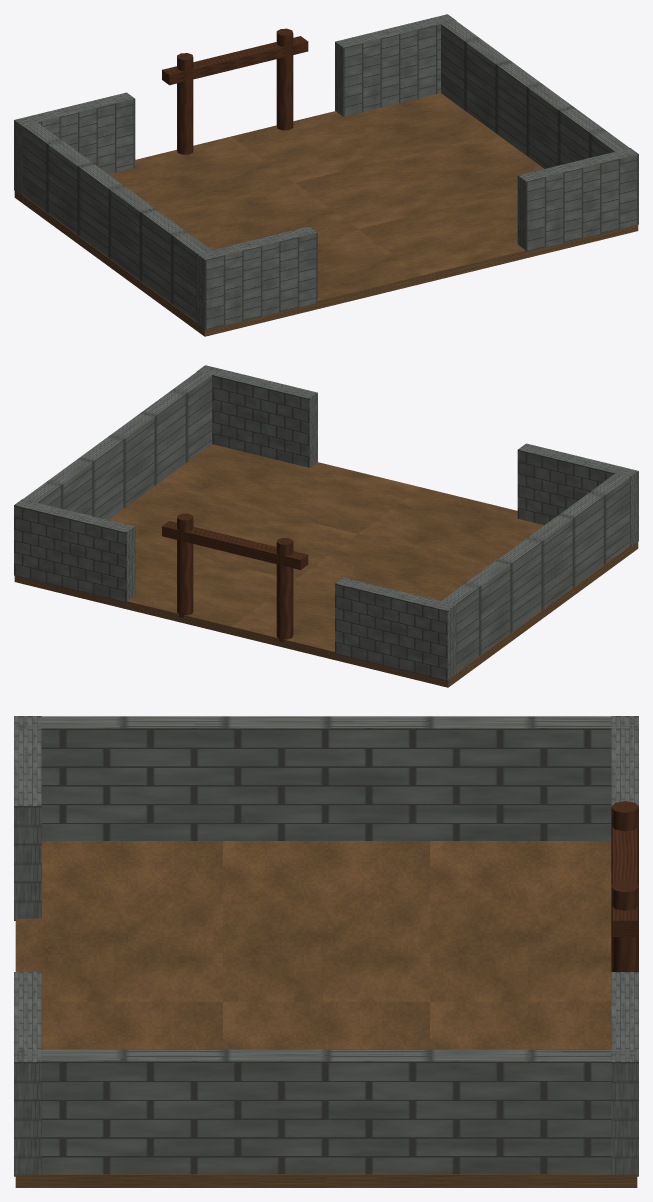
Rendered from courtyard_v4.obj.
3 renders of one model, top to bottom at view 1: azimuth 30°, elevation 25°; view 2: azimuth 150°, elevation 25°; view 3: azimuth 270°, elevation 25°, orthographic. The views are drawn at different scales.
Parts seen in each view (by area): view 1: courtyard_v4; view 2: courtyard_v4; view 3: courtyard_v4.
Part boxes in pixels (x1=…): courtyard_v4: x1=14, y1=14, x2=638, y2=336; courtyard_v4: x1=14, y1=365, x2=638, y2=687; courtyard_v4: x1=14, y1=716, x2=638, y2=1187.
Bounding box in the file's own units: 10 × 2.27 × 7.64.
4 materials, 4 textured.
